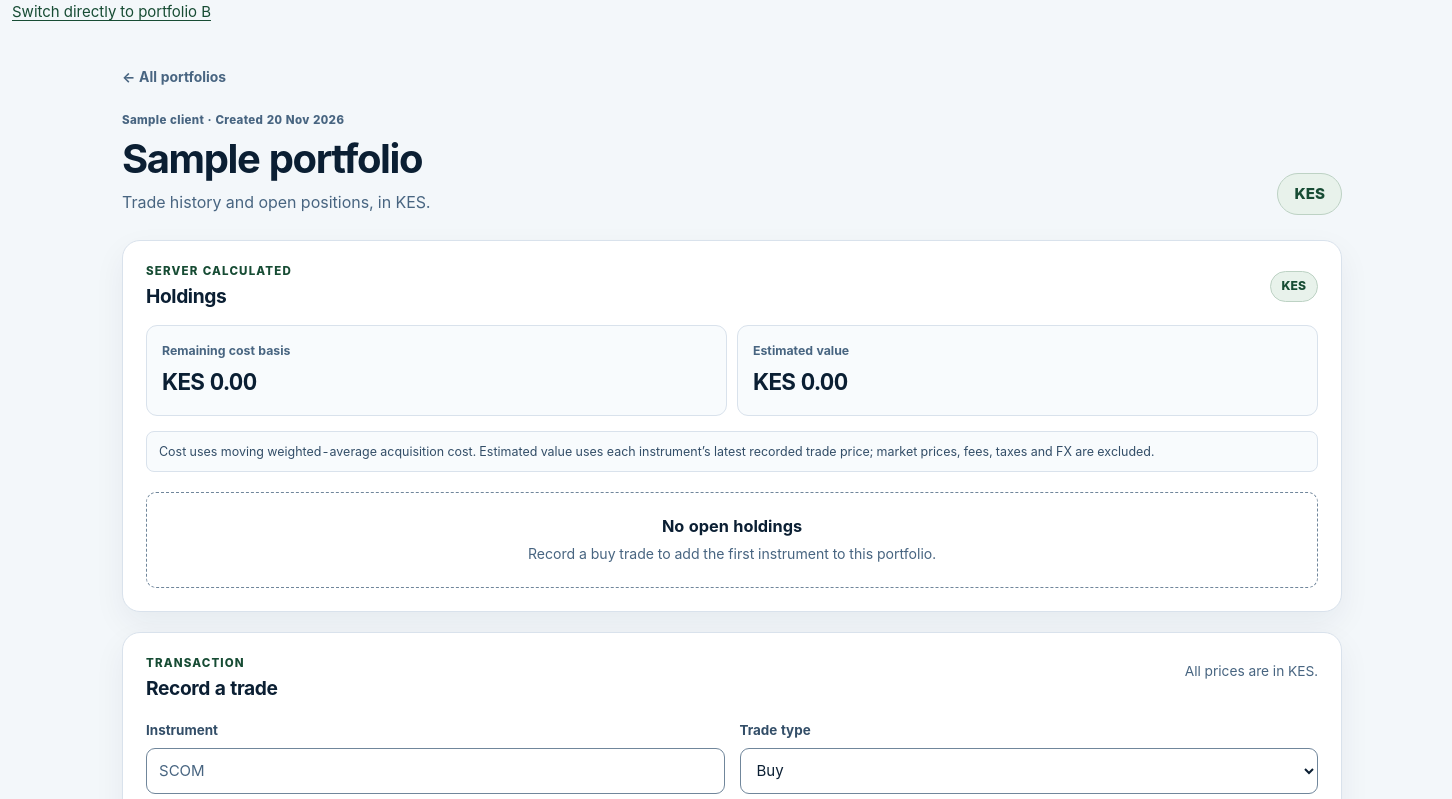
it: PortfolioPage trade mutations › does not publish a save notice from portfolio A after switching to portfolio B
The image size is (1452, 799).
Type "ABSA" into the field labelled "Instrument". click: coordinates (435, 771)
box: [146,748,724,794]
(page scrolled)
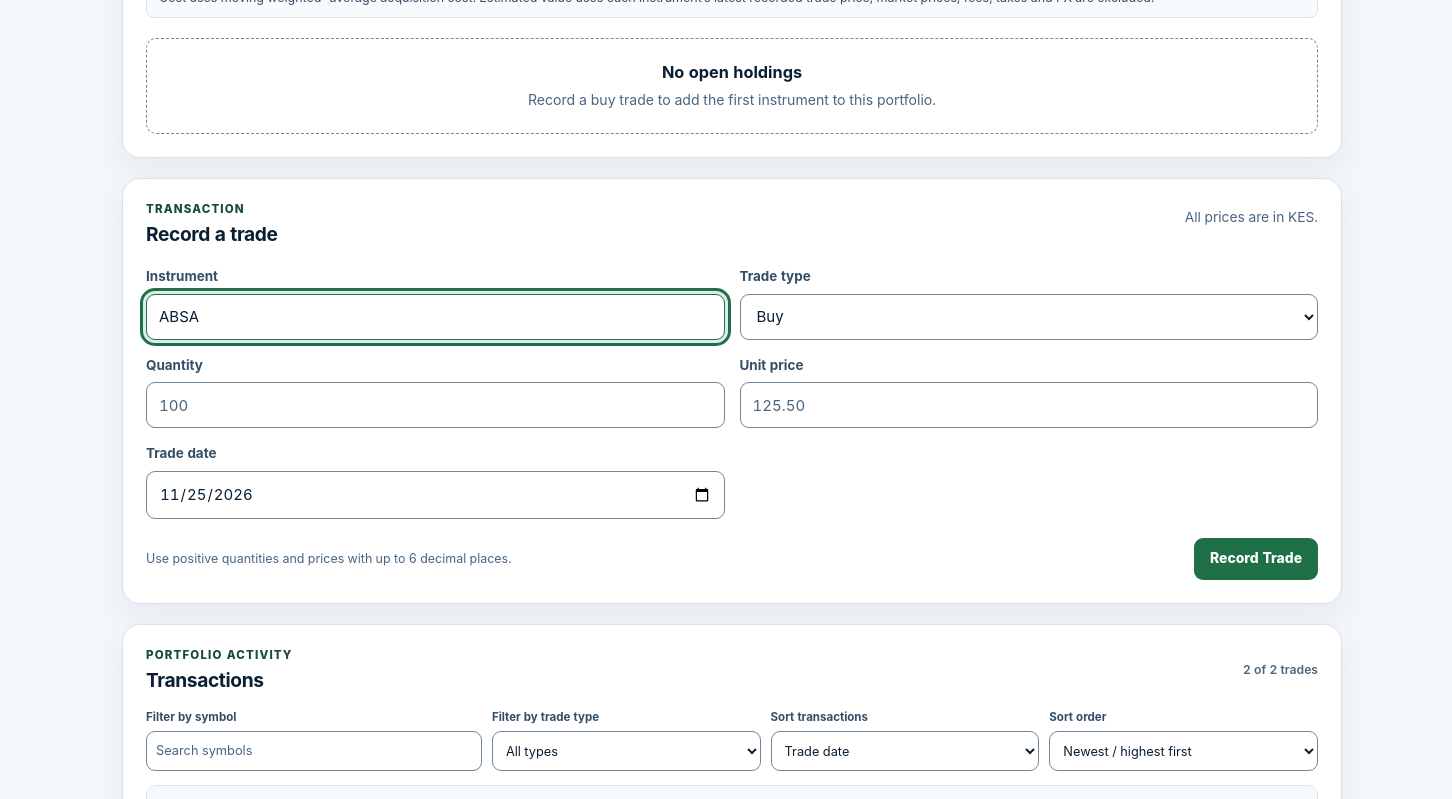
Type "1" into the number field labelled "Quantity". click: coordinates (435, 406)
box: [146,382,724,428]
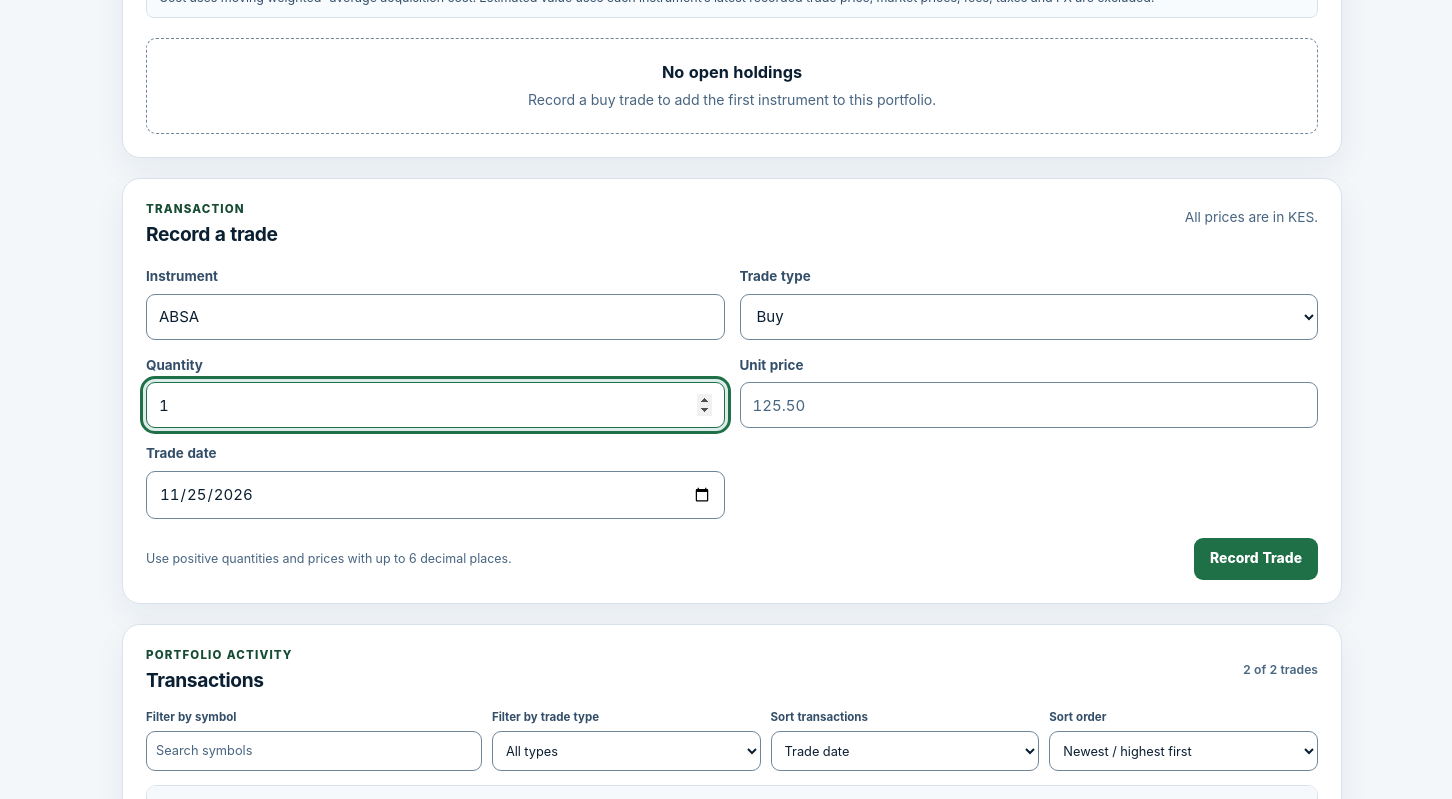
Type "12" into the number field labelled "Unit price". click: coordinates (1029, 406)
box: [740,382,1318,428]
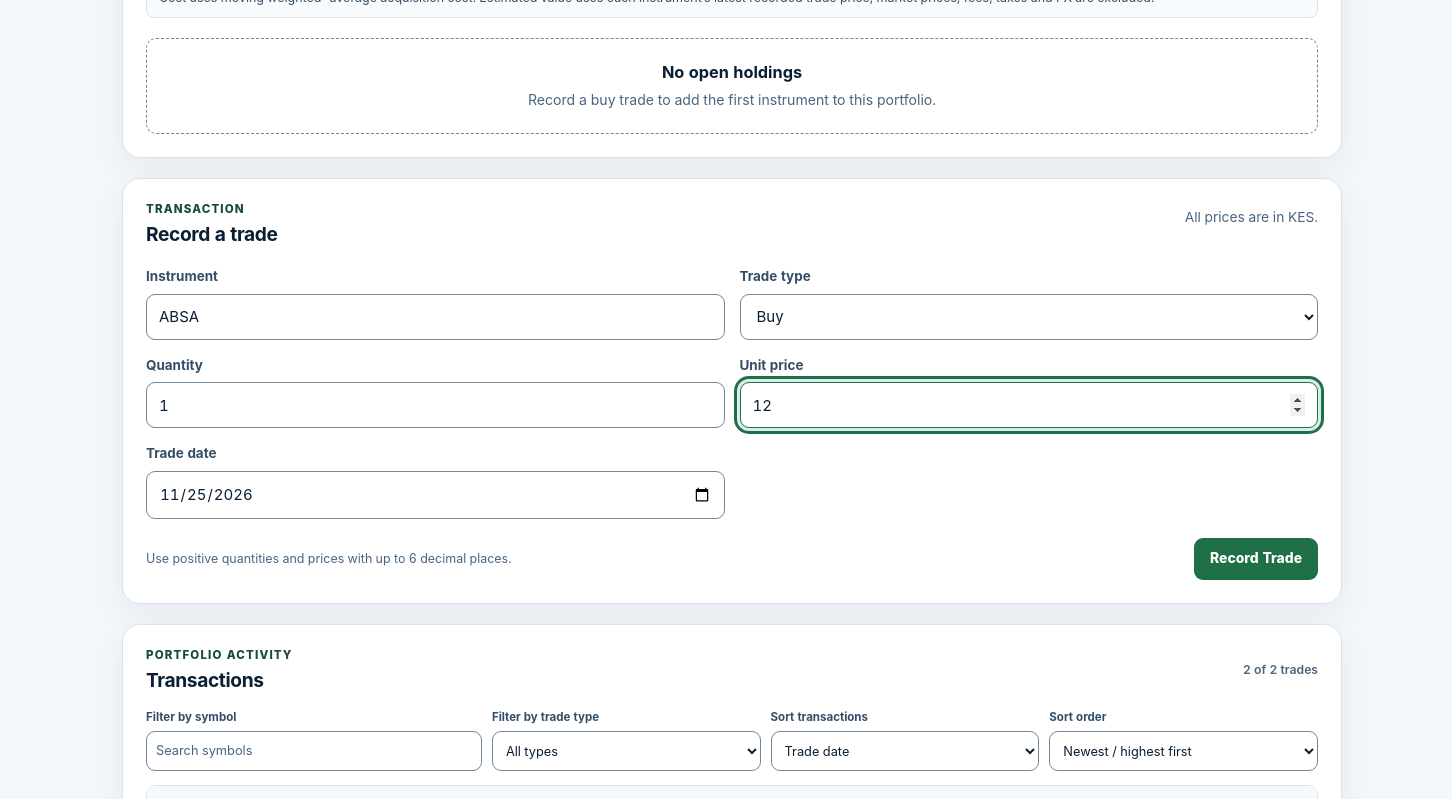
Click the button "Record Trade". click: coordinates (1256, 559)
box: [1194,538,1318,580]
(page scrolled)
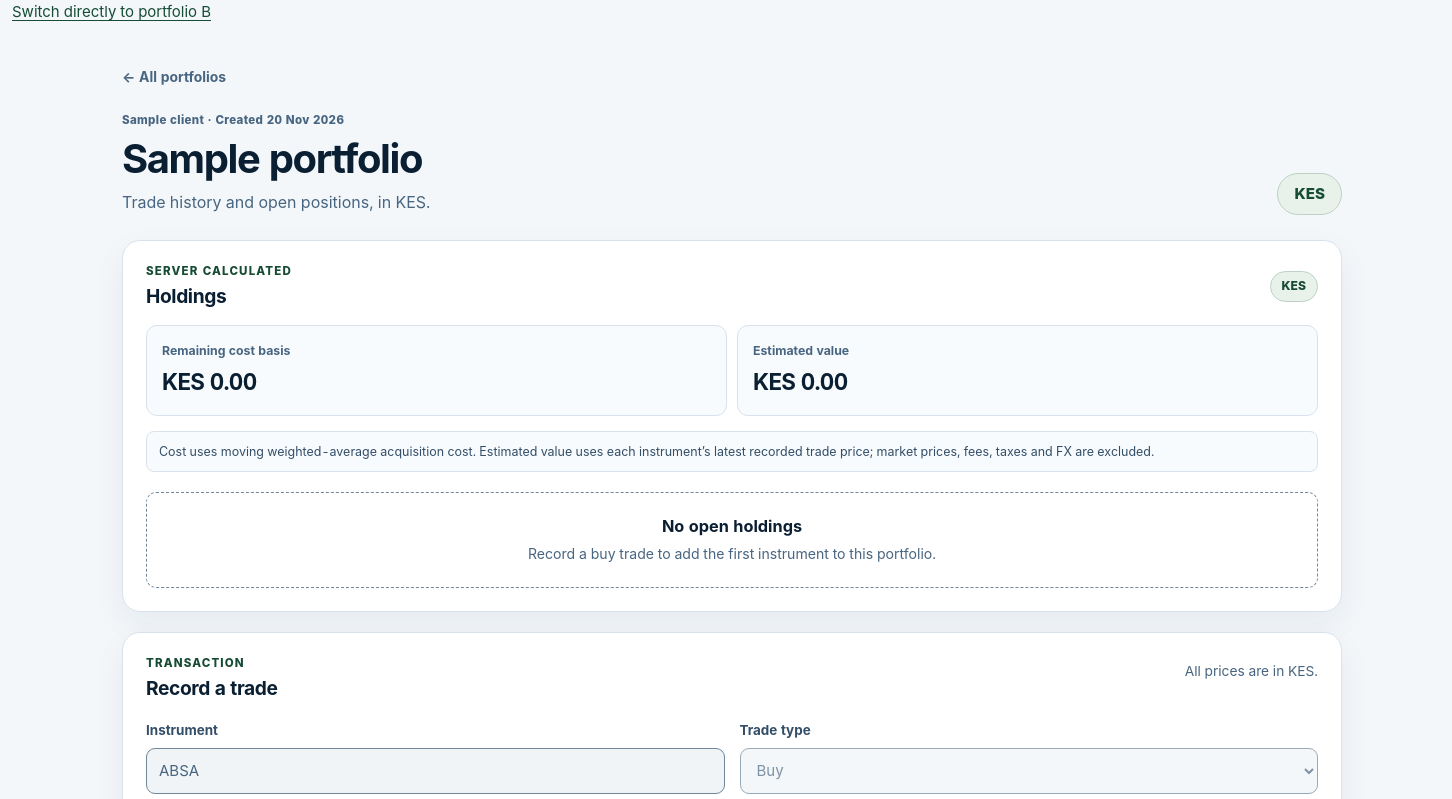
Click the link "Switch directly to portfolio B". click: coordinates (112, 12)
box: [12,2,211,21]
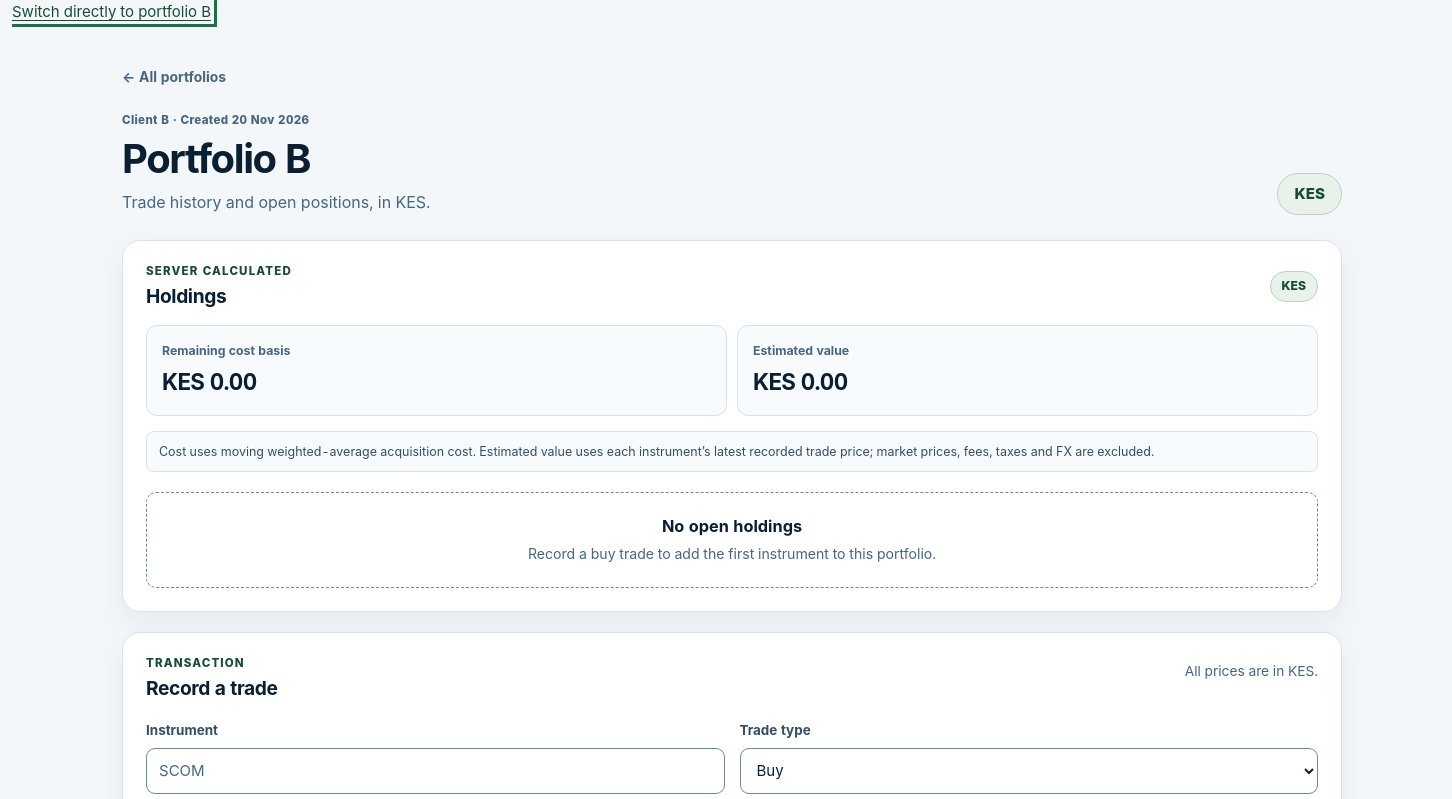
Expected: the heading "Portfolio B" is shown, [122,134,310,183]
Expected: the field labelled "Instrument" is empty, [146,748,724,794]
Expected: the field labelled "Instrument" is enabled, [146,748,724,794]
